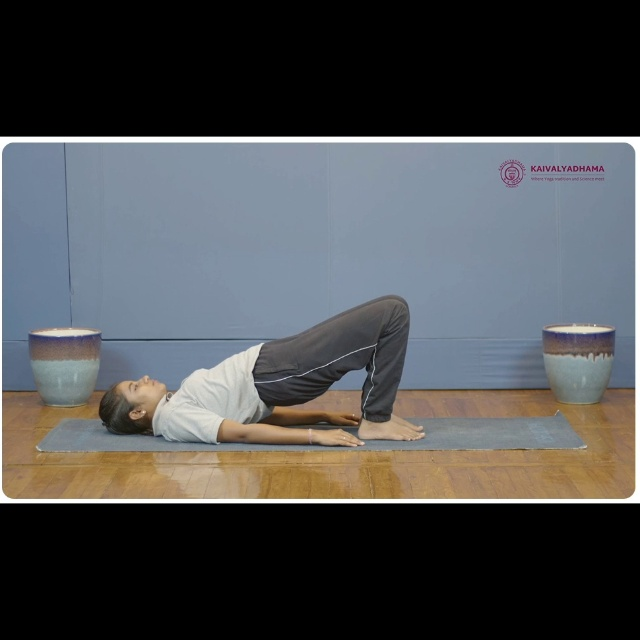Bridge_Pose: (88, 290, 439, 458)
